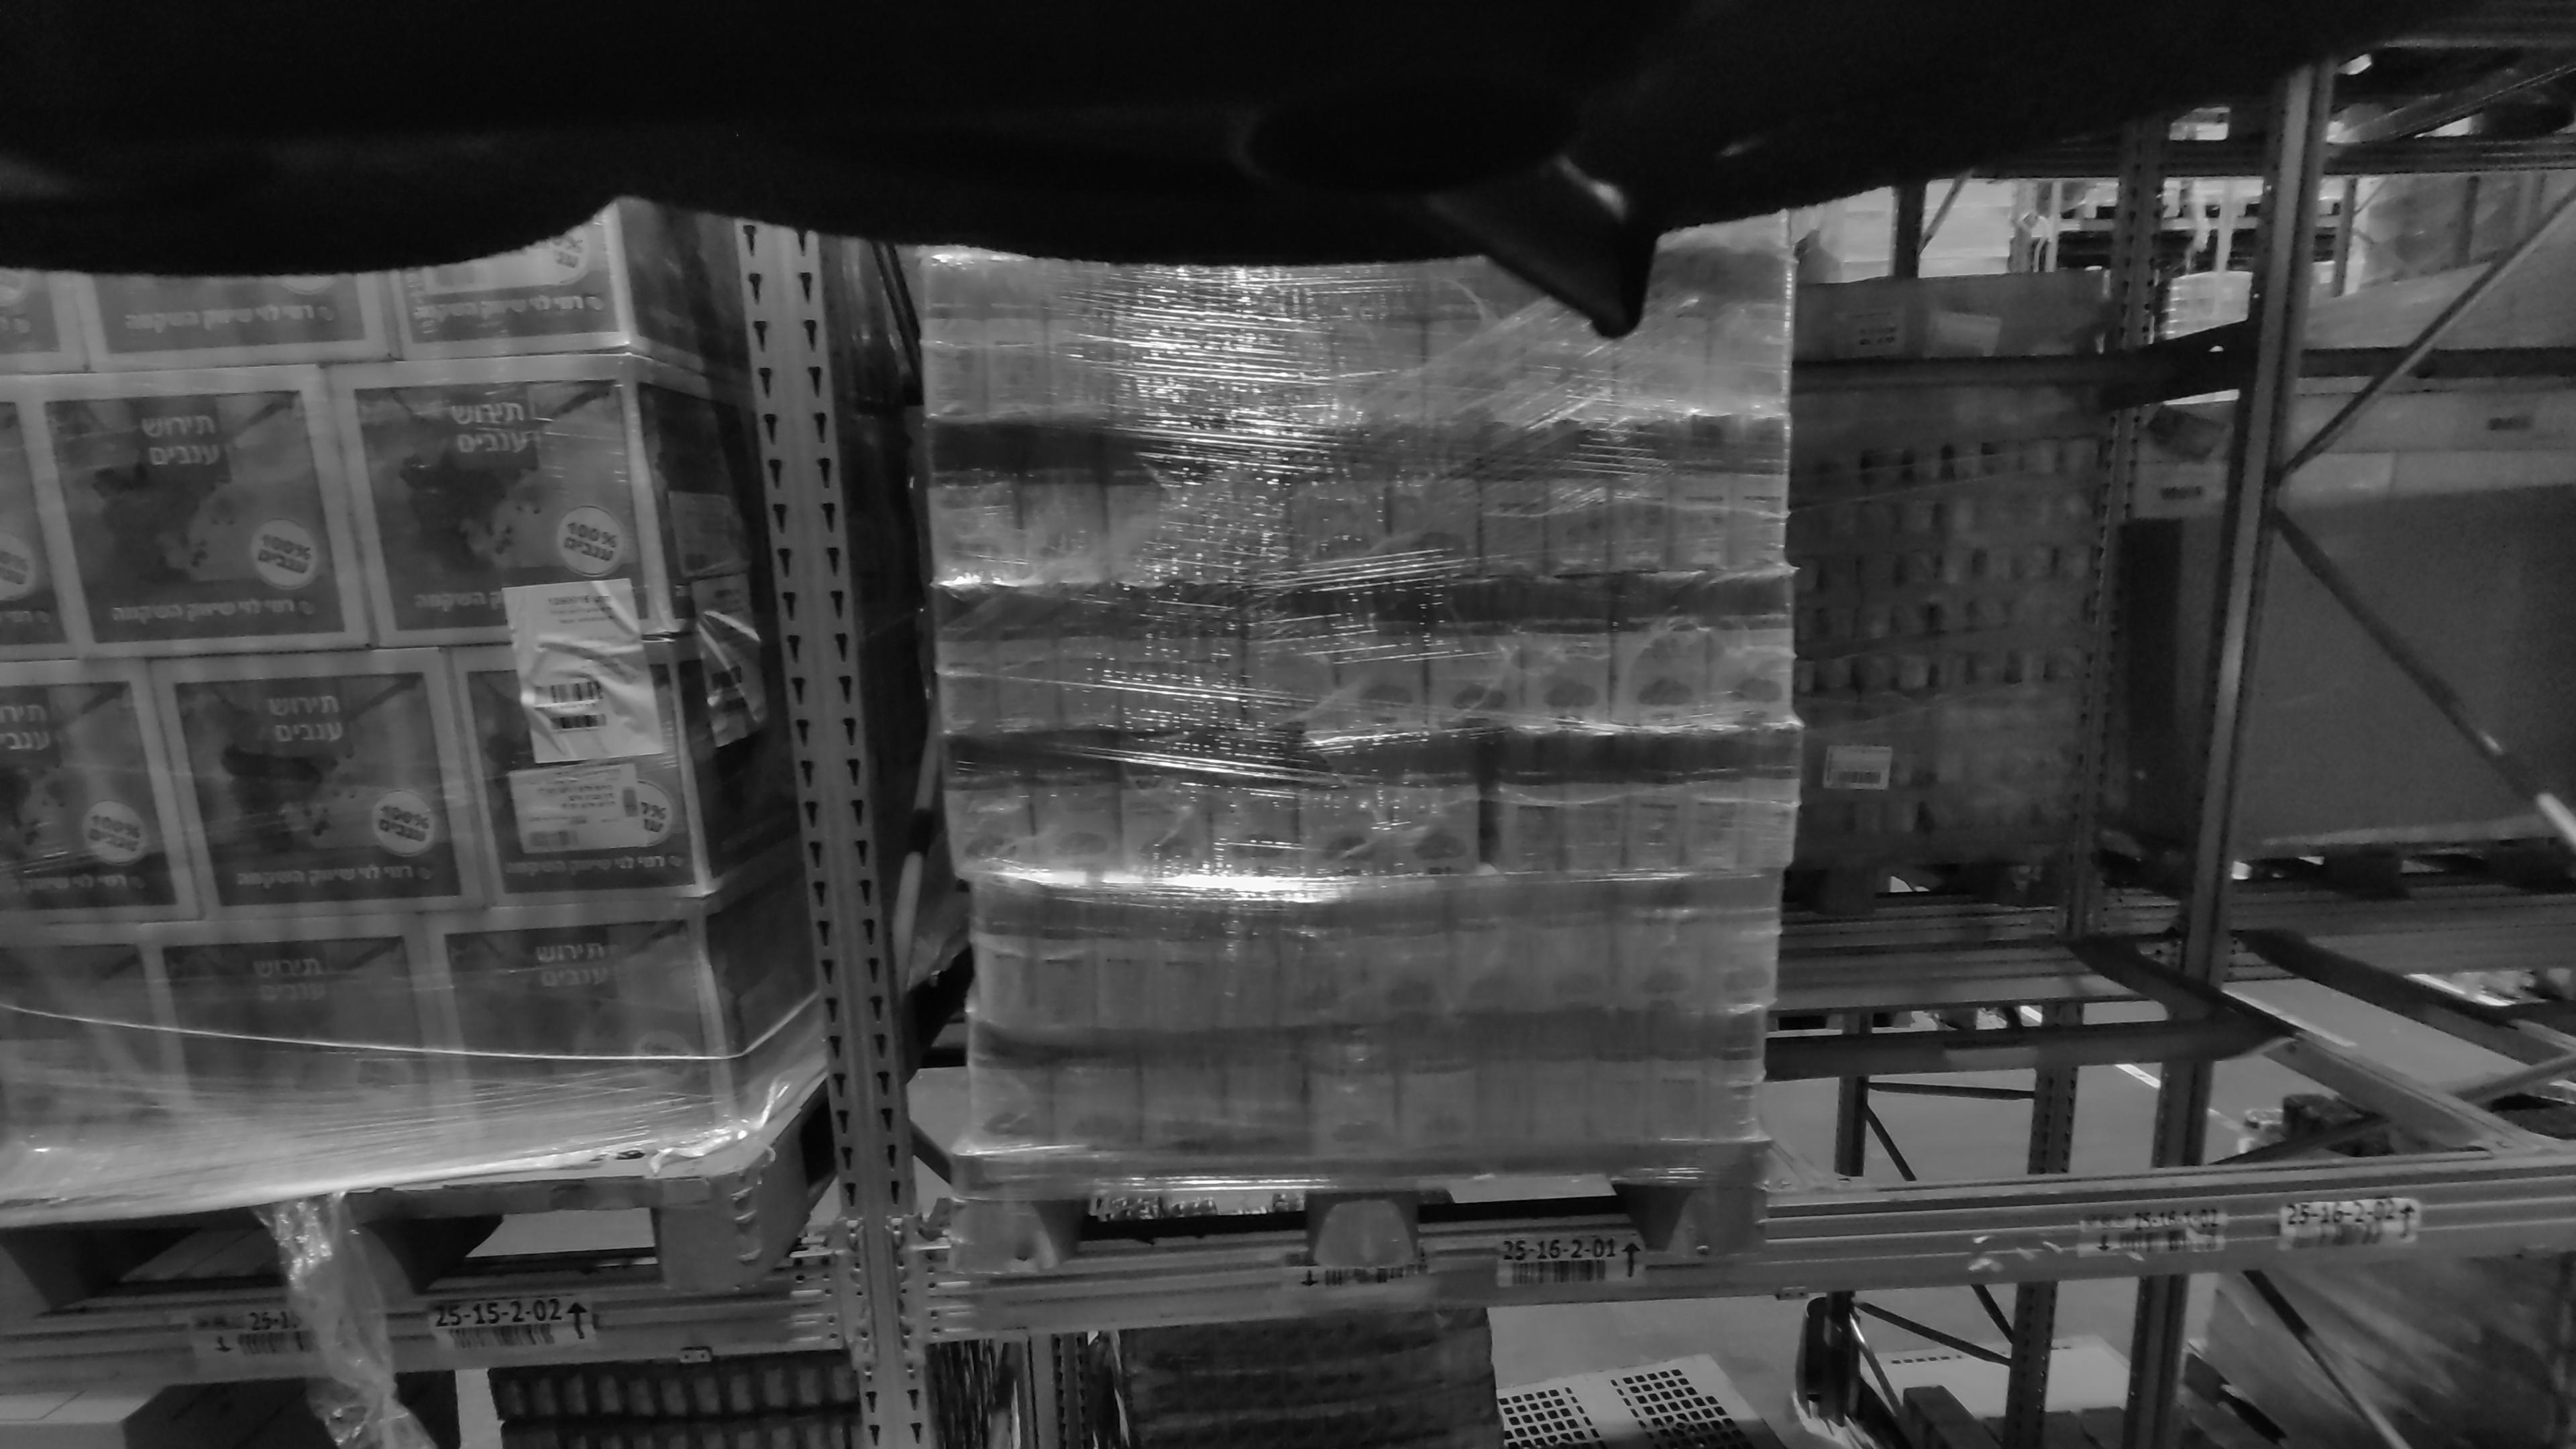empty-shelf: (1831, 92, 2576, 1161)
